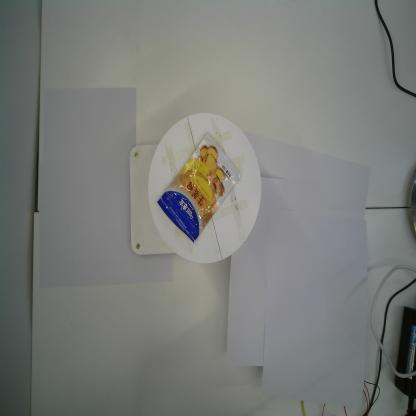Seasoner: (156, 133, 242, 243)
